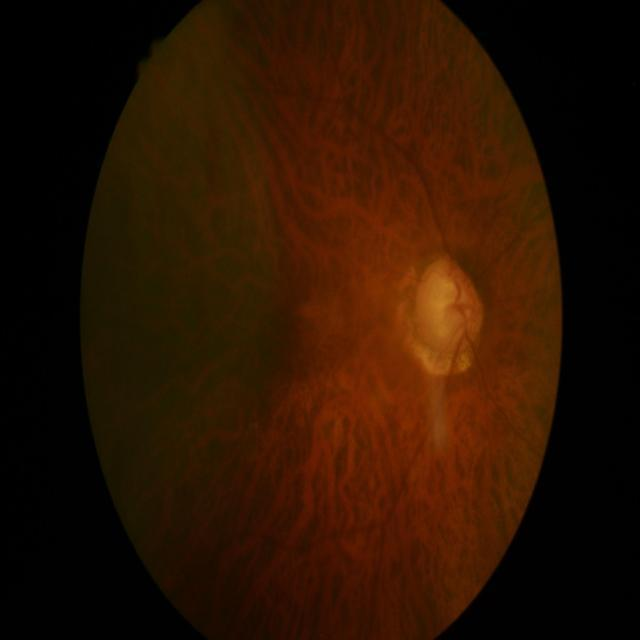cup: (428, 270, 474, 340)
disk: (414, 258, 486, 352)
